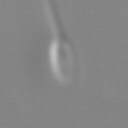normal: (38, 1, 65, 40)
